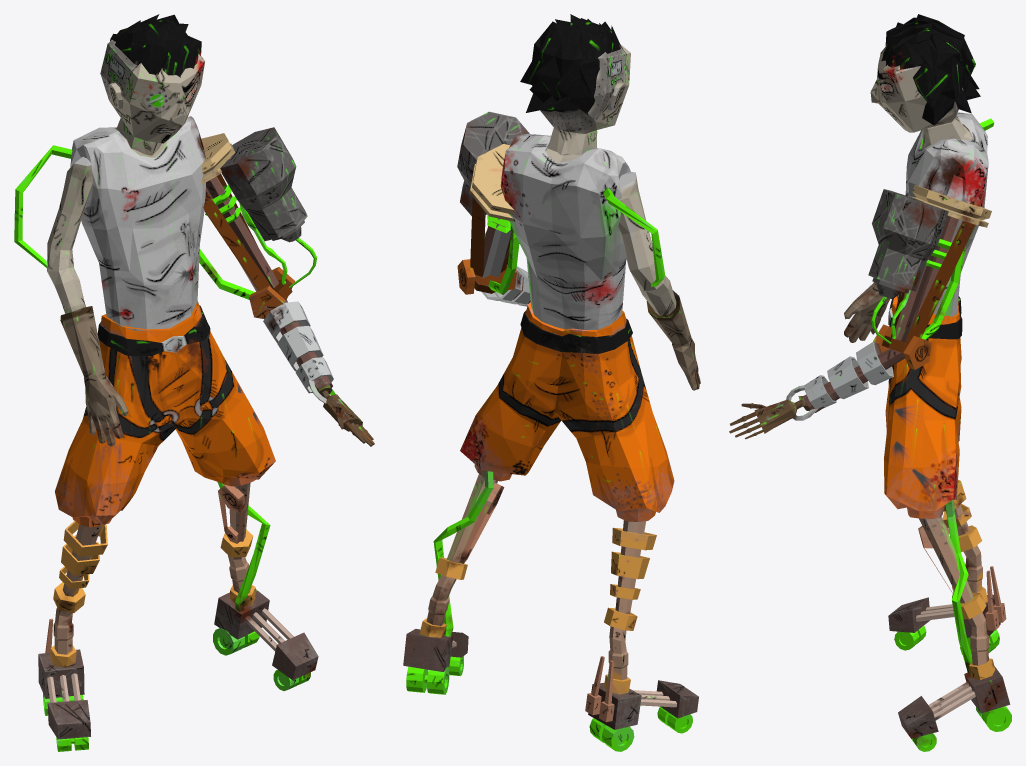
The model's file is CyborgFINALAnimation_000036.obj.
3 renders of one model, left to right at view 1: azimuth 30°, elevation 25°; view 2: azimuth 150°, elevation 25°; view 3: azimuth 270°, elevation 25°, orthographic. The views are drawn at different scales.
Visible parts, largest first — view 1: CyborgMesh_Cube.002; view 2: CyborgMesh_Cube.002; view 3: CyborgMesh_Cube.002.
Boxes of the visible parts, x1=… form: CyborgMesh_Cube.002: x1=14, y1=14, x2=374, y2=751; CyborgMesh_Cube.002: x1=403, y1=14, x2=700, y2=751; CyborgMesh_Cube.002: x1=729, y1=14, x2=1011, y2=751.
Size of the model in its own units: 3.86 by 9.68 by 3.72.
